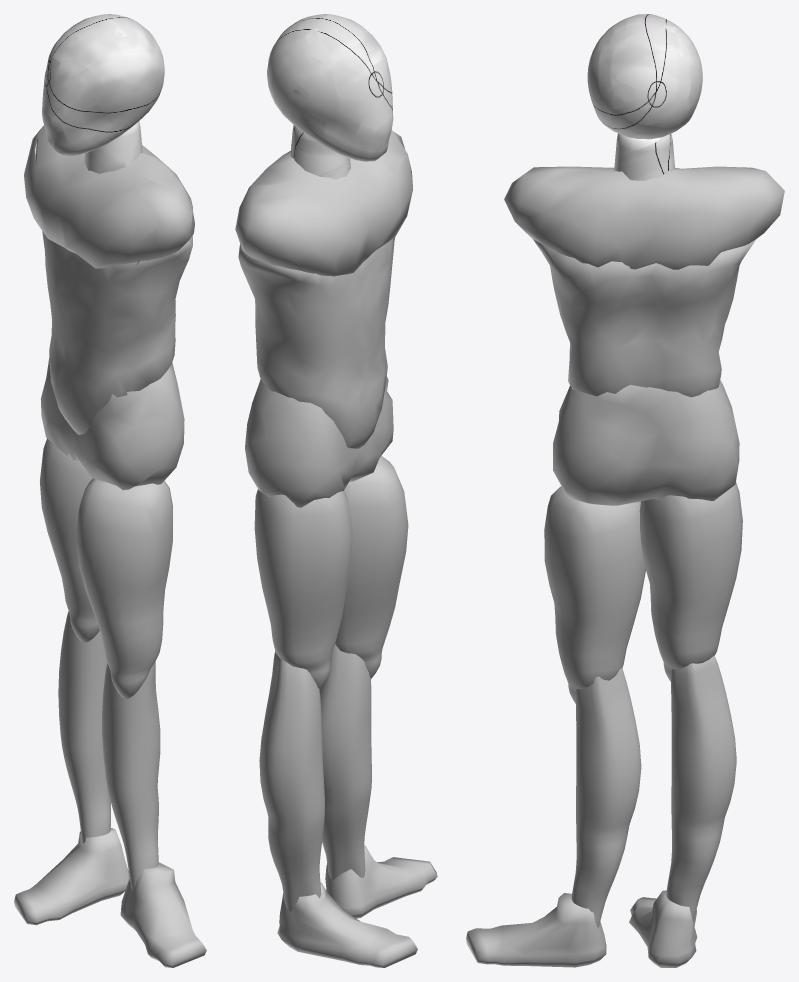
File: top.obj
3 views of the same model, side by side, from view 1: azimuth 30°, elevation 25°; view 2: azimuth 150°, elevation 25°; view 3: azimuth 270°, elevation 25° (orthographic). The views are drawn at different scales.
Parts seen in each view (by area): view 1: Bottom_Cube.043, Torso_Cube.042, Collo_Cylinder.002; view 2: Bottom_Cube.043, Torso_Cube.042, Collo_Cylinder.002; view 3: Bottom_Cube.043, Torso_Cube.042, Collo_Cylinder.002.
Boxes of the visible parts, bbox=[...] form: Bottom_Cube.043: bbox=[14, 357, 206, 967]; Torso_Cube.042: bbox=[24, 125, 194, 434]; Collo_Cylinder.002: bbox=[42, 14, 164, 173]; Bottom_Cube.043: bbox=[245, 376, 437, 967]; Torso_Cube.042: bbox=[235, 130, 412, 448]; Collo_Cylinder.002: bbox=[267, 14, 393, 179]; Bottom_Cube.043: bbox=[466, 380, 742, 967]; Torso_Cube.042: bbox=[504, 166, 784, 397]; Collo_Cylinder.002: bbox=[587, 14, 702, 180].
Bounding box in the file's own units: 0.4339 × 2.57 × 0.7974.
Materials: 2 (1 with a texture image).
